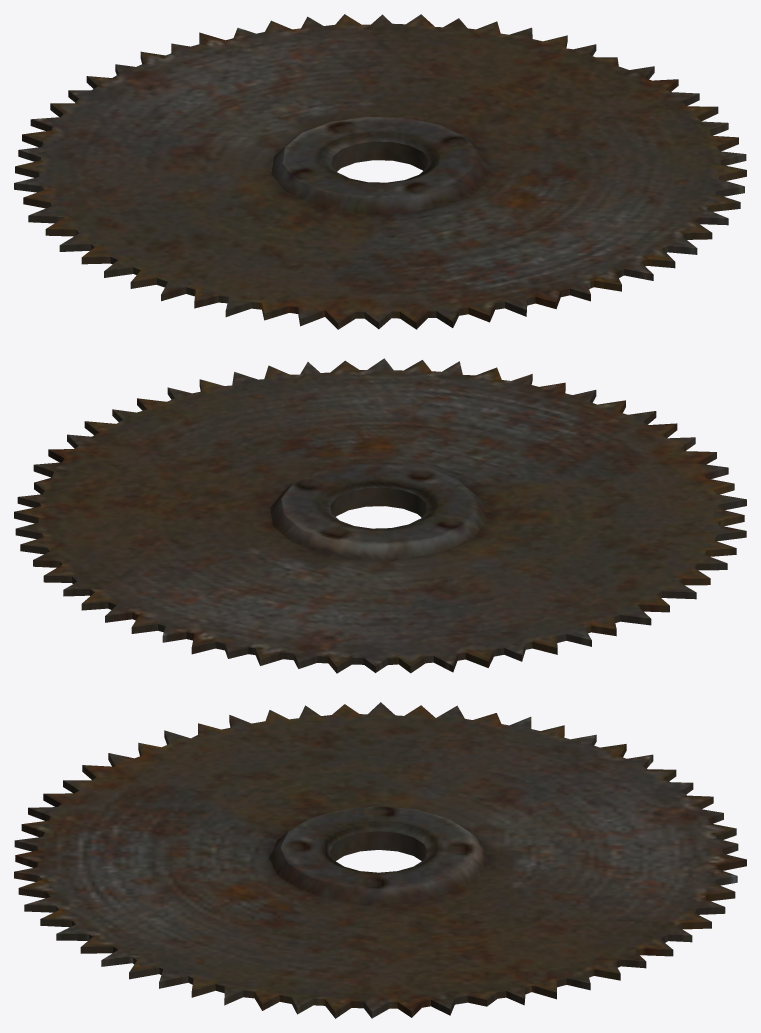
File: saw_blade_1.obj
The picture shows the model from 3 angles, top to bottom: view 1: azimuth 30°, elevation 25°; view 2: azimuth 150°, elevation 25°; view 3: azimuth 270°, elevation 25°; orthographic projection.
Visible parts, largest first — view 1: saw_blade_1; view 2: saw_blade_1; view 3: saw_blade_1.
Part boxes in pixels (bbox=[...]): saw_blade_1: bbox=[14, 14, 746, 329]; saw_blade_1: bbox=[14, 358, 746, 673]; saw_blade_1: bbox=[14, 702, 746, 1018].
Bounding box in the file's own units: 0.5934 × 0.024 × 0.5927.
